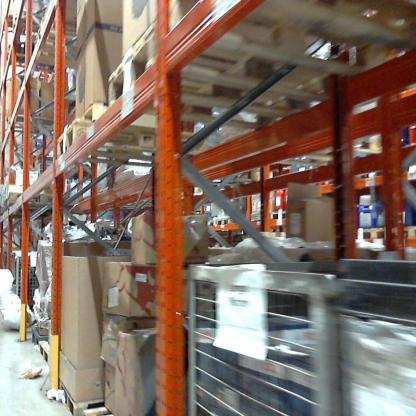pallets: (50, 40, 167, 166), (355, 227, 416, 242), (205, 218, 244, 226)
